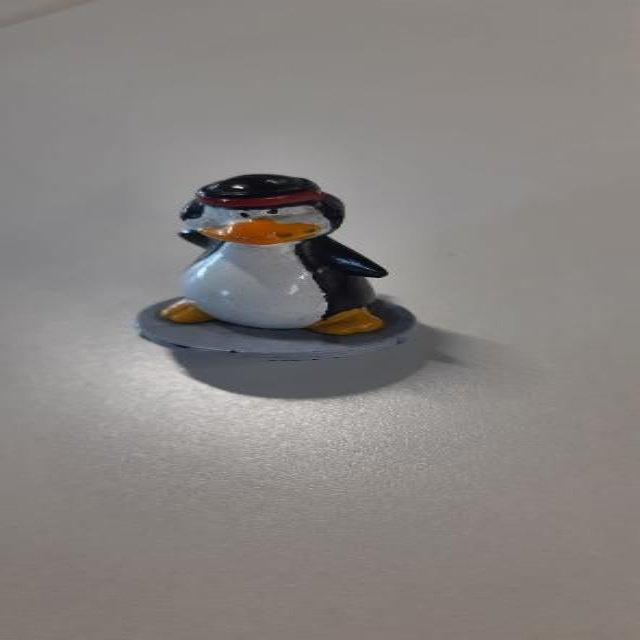Penguin: (118, 168, 455, 362)
